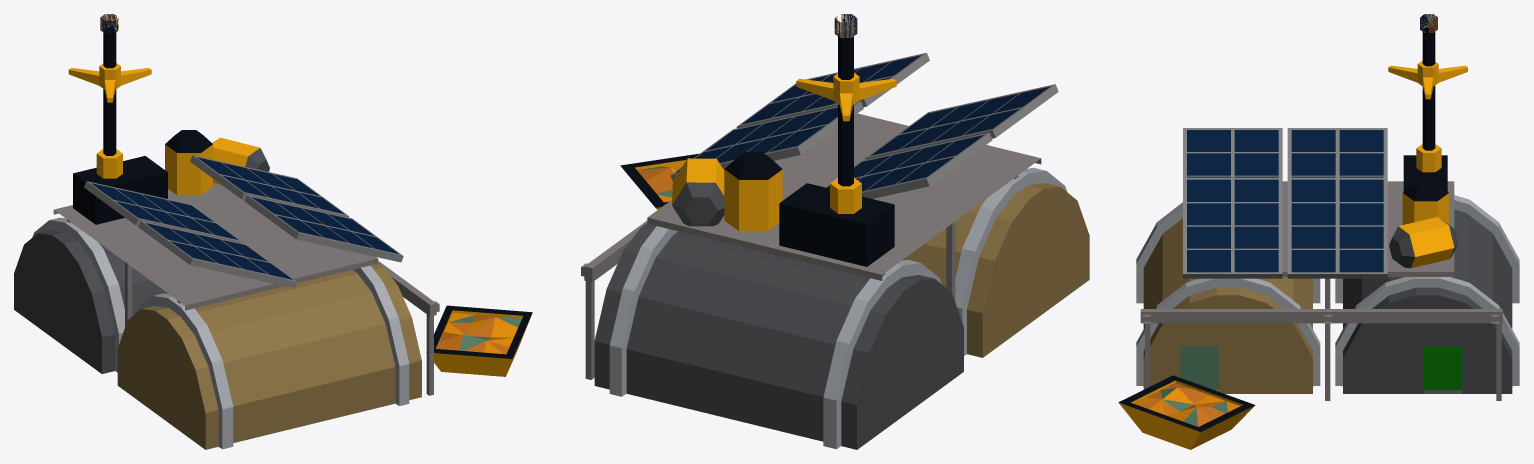
File: House.fbx
3 views of the same model, side by side, from view 1: azimuth 30°, elevation 25°; view 2: azimuth 150°, elevation 25°; view 3: azimuth 270°, elevation 25° (orthographic). The views are drawn at different scales.
Parts seen in each view (by area): view 1: base, Cylinder; view 2: base, Cylinder; view 3: base, Cylinder.
Part boxes in pixels (x1,y1,x2,y2): base: (14,28,532,449); Cylinder: (68,63,151,102); base: (581,31,1089,449); Cylinder: (796,73,896,121); base: (1118,27,1519,449); Cylinder: (1388,60,1467,99).
Size of the model in its own units: 397 by 332 by 401.
